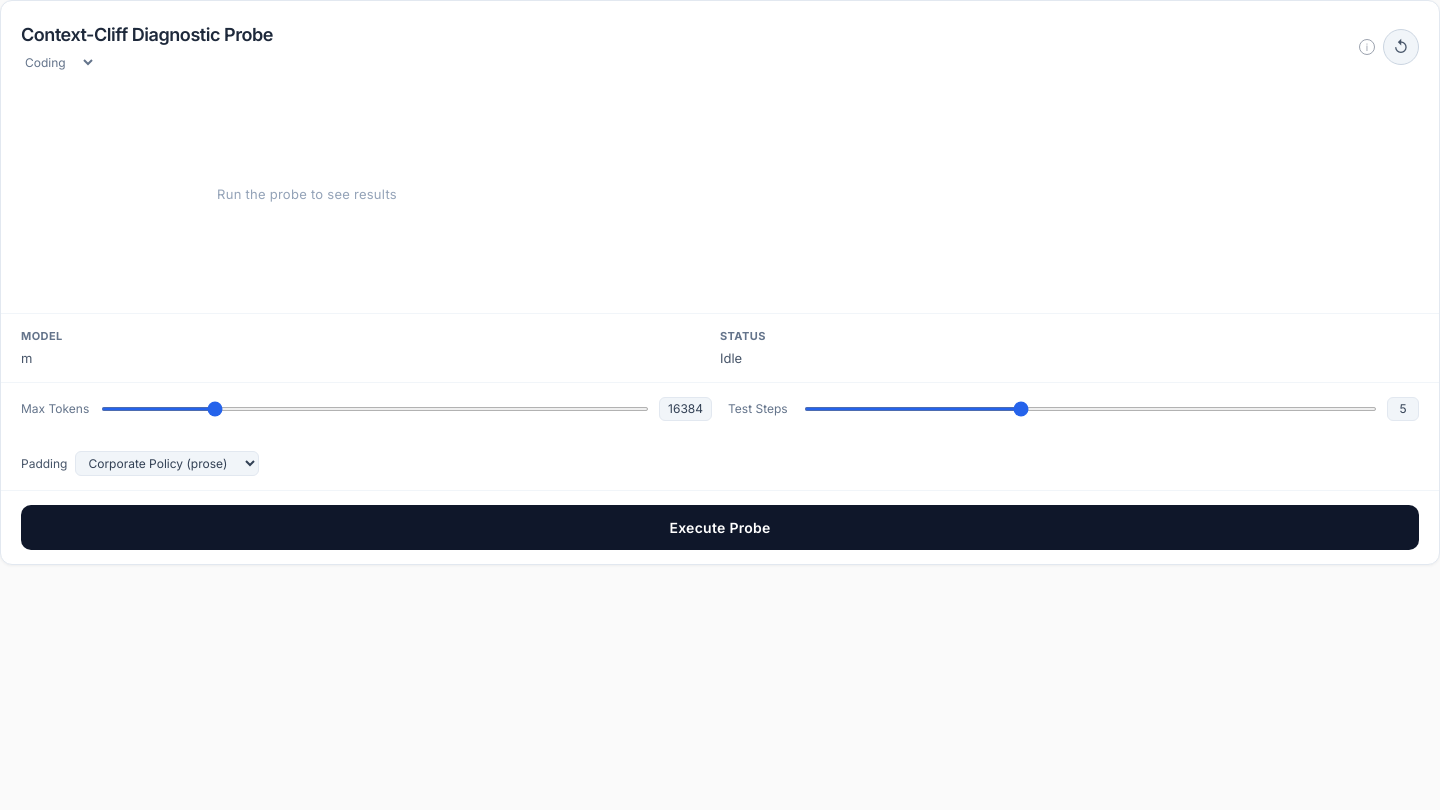
it: ContextCliffPanel › plots the cliff at the model's REAL measured token depth from the backend report
Click the button with test id "cliff-run". click: (720, 528)
box: [21,505,1419,550]
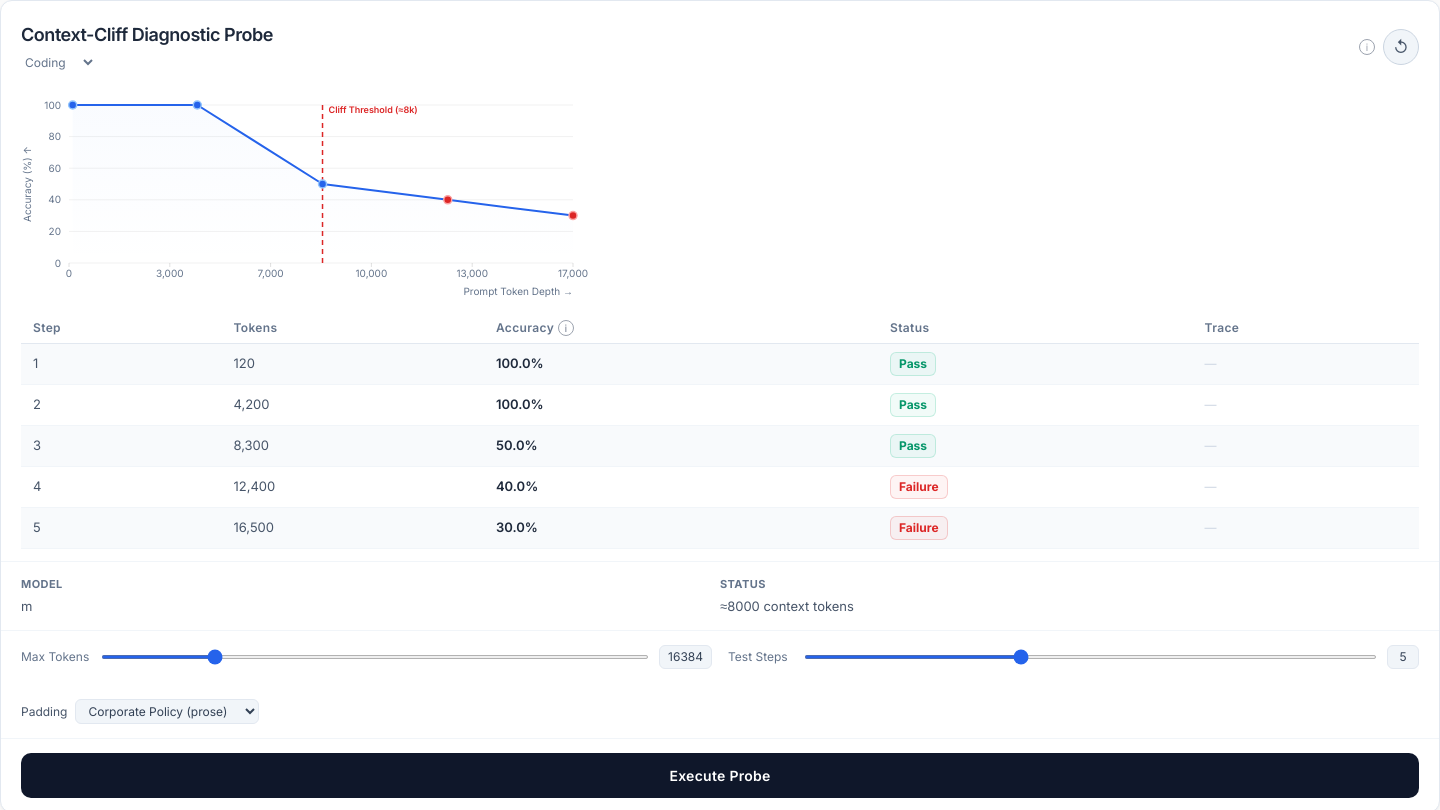
Expected: the text with test id "cliff-read" reads "≈8000 context tokens", [720,598,854,614]
Expected: the picture with test id "cliff-chart" is shown, [17,85,597,305]
